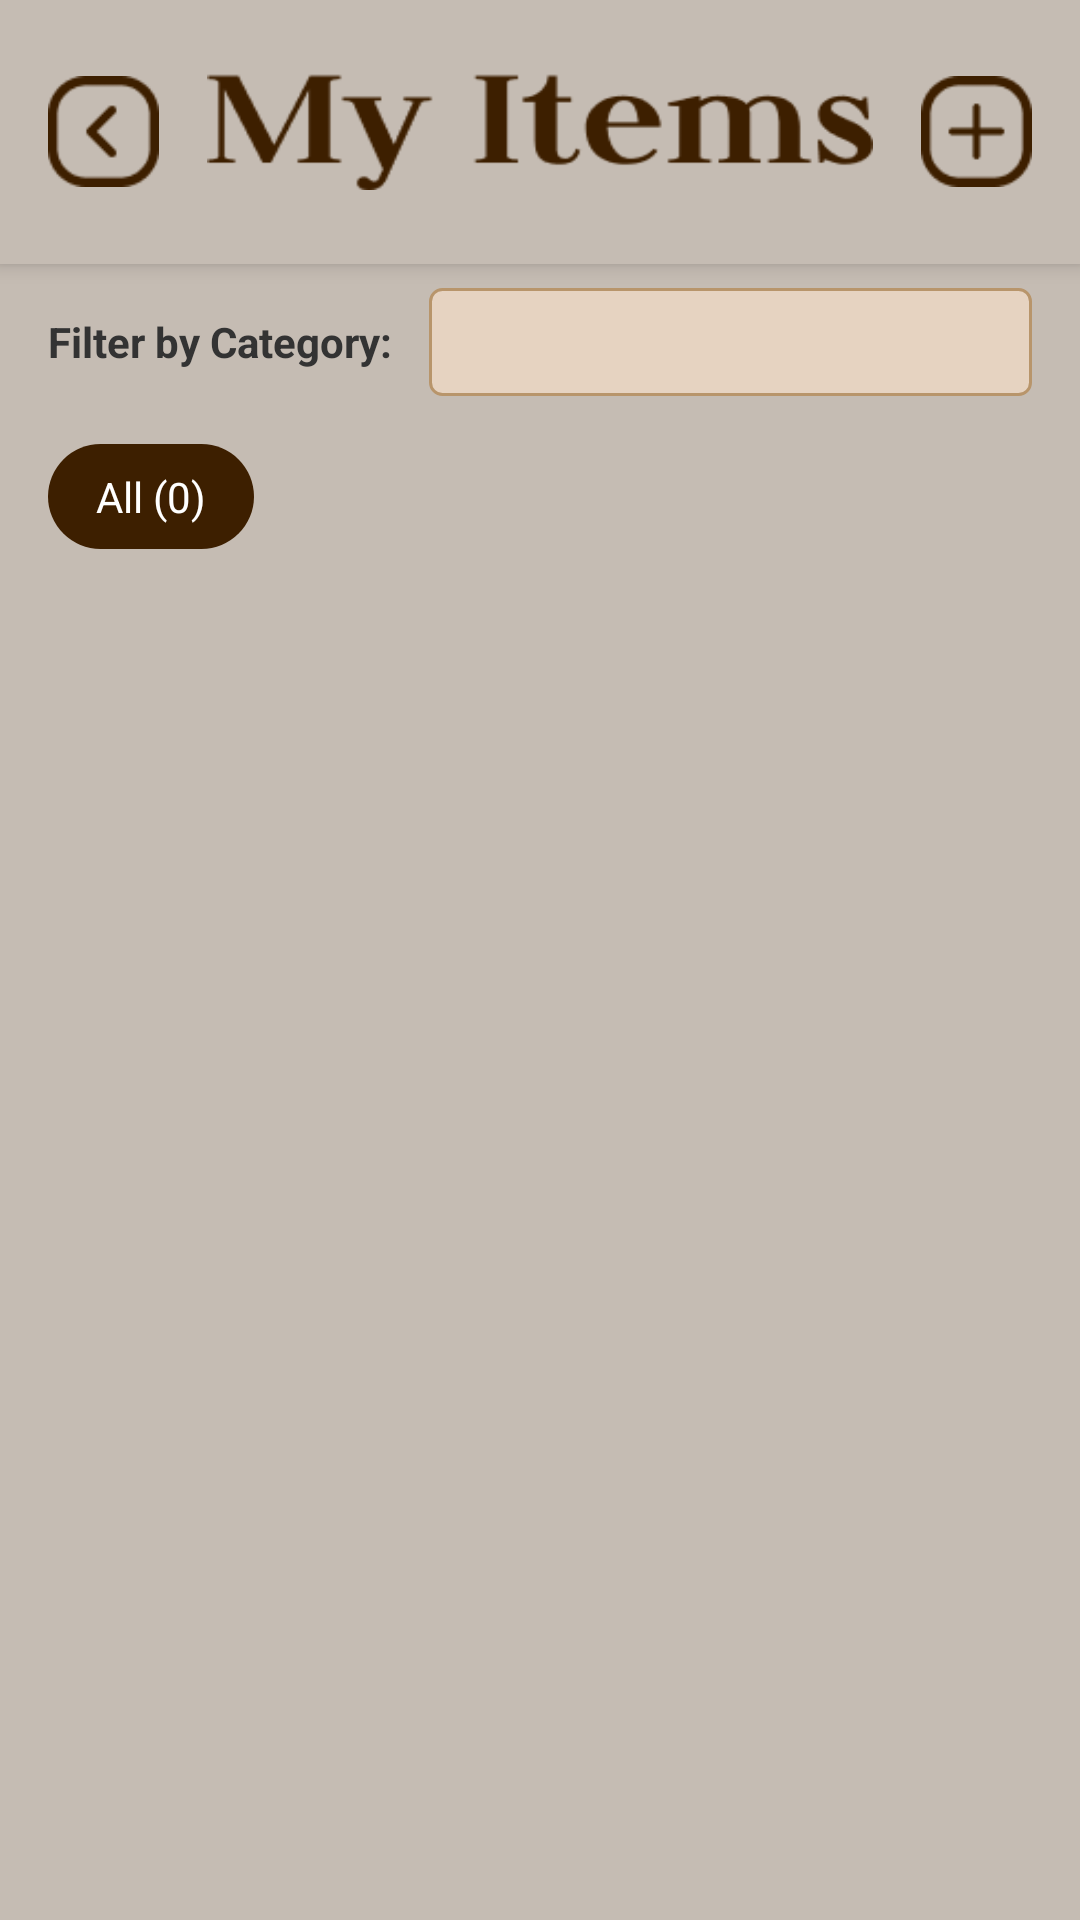

Screen size 1080x1920. Icon name, then its box in pixels as (left=x1, top=y1, right=x2, bottom=y2):
Create Outfit: (left=921, top=76, right=1032, bottom=187)
